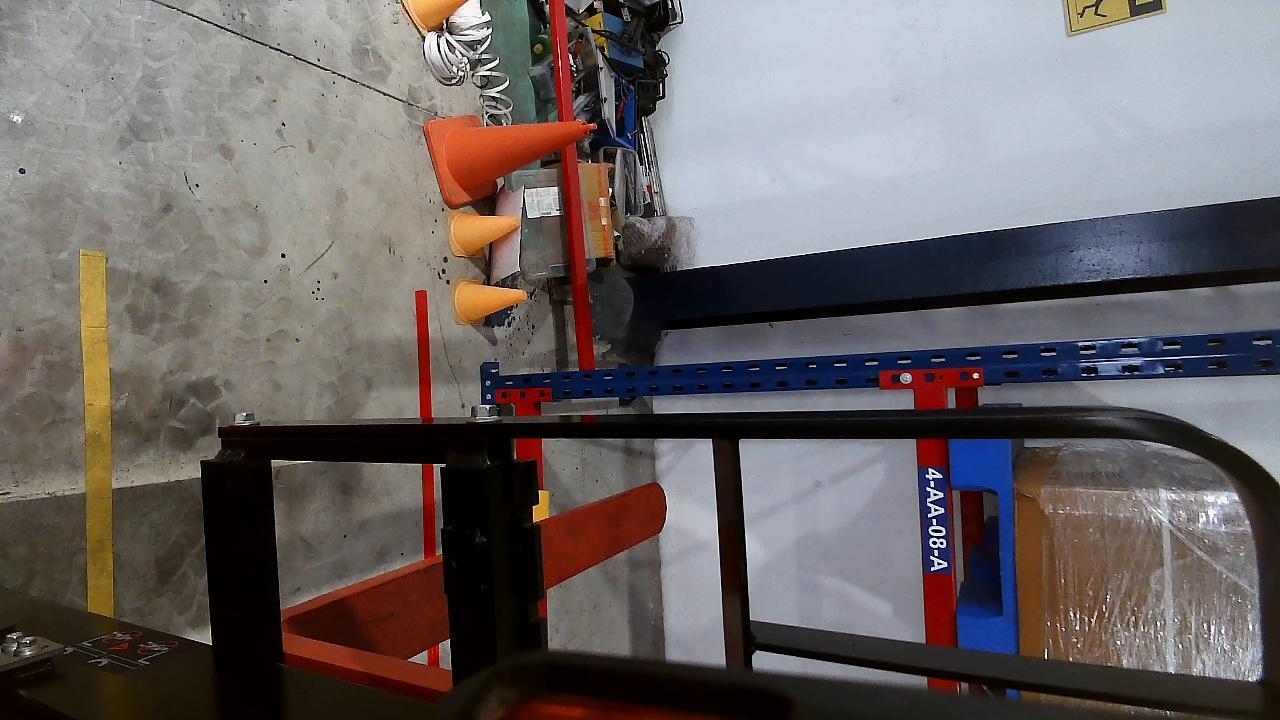h_rack: (910, 384, 955, 646)
red_line: (414, 292, 439, 555)
small_pallet: (947, 441, 1021, 651)
yellow_line: (79, 250, 113, 618)
